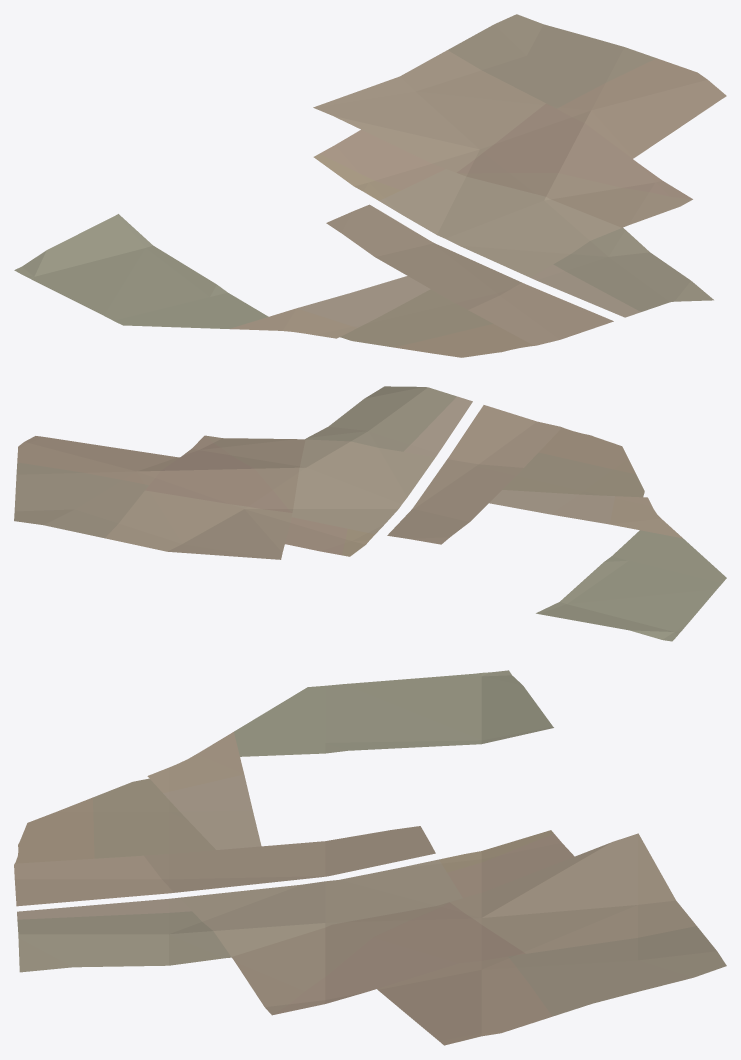
Rendered from farm_-10_12_soil.glb.
3 views of the same model, one above another, from view 1: azimuth 30°, elevation 25°; view 2: azimuth 150°, elevation 25°; view 3: azimuth 270°, elevation 25° (orthographic). The views are drawn at different scales.
Parts seen in each view (by area): view 1: geometry_0; view 2: geometry_0; view 3: geometry_0.
Part boxes in pixels (left/top/right/bottom): geometry_0: left=14, top=14, right=726, bottom=357; geometry_0: left=14, top=386, right=726, bottom=641; geometry_0: left=14, top=670, right=726, bottom=1045.
Bounding box in the file's own units: 493 × 34.78 × 365.
